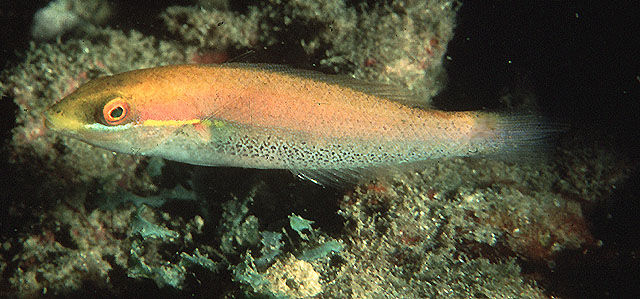fish: (42, 62, 549, 187)
